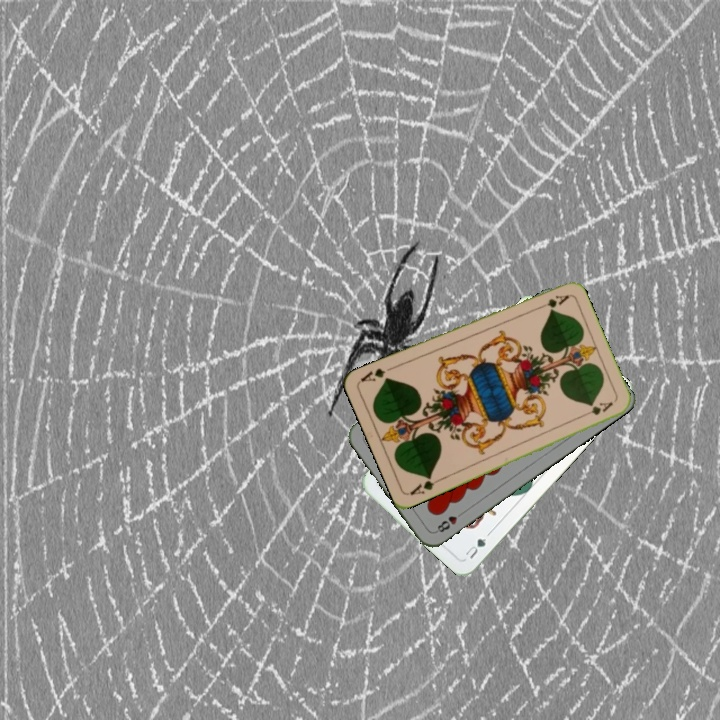GA: (406, 472, 444, 498), (532, 291, 571, 313)
GU: (461, 533, 489, 562)
H8: (431, 507, 467, 535)
